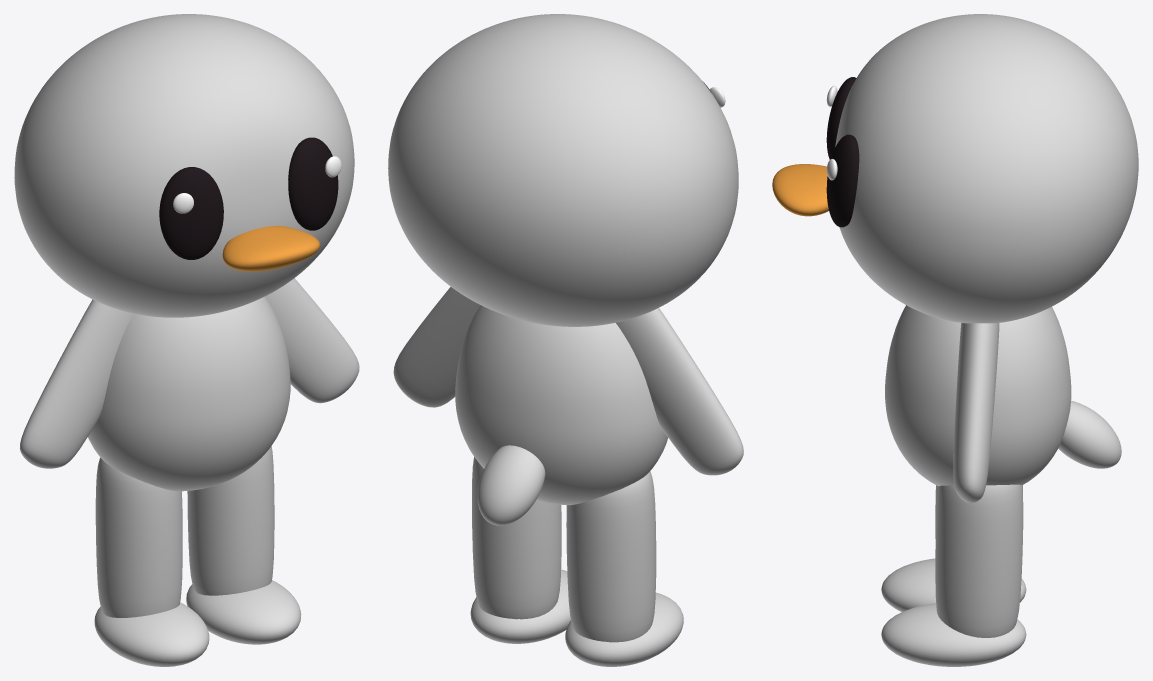
Rendered from villager_duck.glb.
3 renders of one model, left to right at view 1: azimuth 30°, elevation 25°; view 2: azimuth 150°, elevation 25°; view 3: azimuth 270°, elevation 25°, orthographic. The views are drawn at different scales.
Parts seen in each view (by area): view 1: head, torso, legL, legR, armL, armR, eyeL, eyeR, beak; view 2: head, torso, legL, legR, armL, armR, tail; view 3: head, torso, legR, armR, tail, beak, legL, eyeR, eyeL.
Part boxes in pixels (x1,y1,x2,y2): head: (14, 14, 354, 317); torso: (88, 296, 290, 491); legL: (94, 457, 209, 666); legR: (186, 446, 301, 644); armL: (20, 299, 133, 468); armR: (265, 278, 359, 403); eyeL: (159, 167, 223, 259); eyeR: (288, 137, 338, 230); beak: (222, 226, 319, 271); head: (388, 14, 738, 326); torso: (455, 305, 668, 505); legL: (565, 471, 683, 666); legR: (470, 457, 570, 643); armL: (616, 308, 743, 475); armR: (393, 287, 480, 407); tail: (477, 445, 545, 525); head: (835, 14, 1138, 323); torso: (885, 305, 1071, 486); legR: (881, 484, 1026, 666); armR: (953, 323, 999, 502); tail: (1058, 400, 1121, 468); beak: (772, 164, 828, 216); legL: (881, 485, 1026, 611); eyeR: (826, 134, 859, 227); eyeL: (826, 77, 856, 159).
Size of what is drawn, in the model's own units: 0.7354 by 1.26 by 0.6899.
